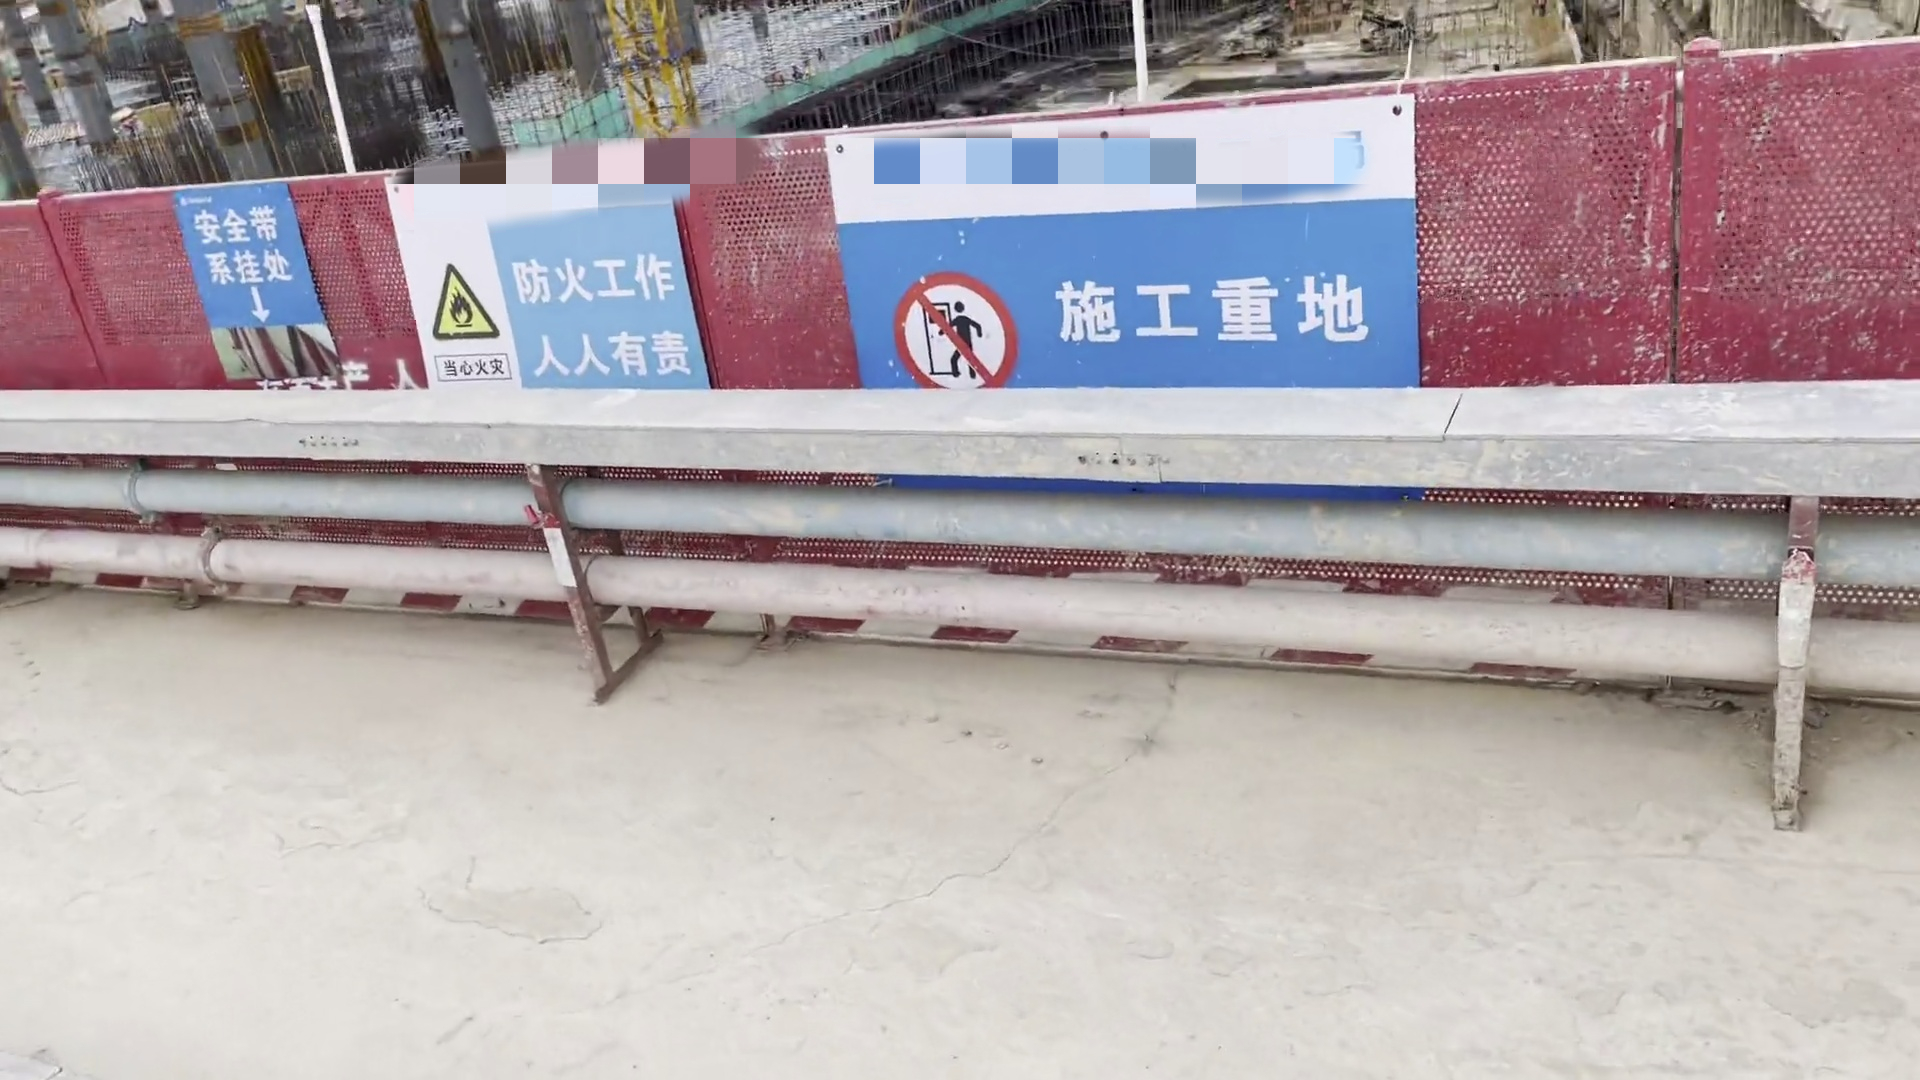fence: (818, 37, 1920, 415), (1, 107, 829, 401)
slogan: (795, 82, 1481, 553), (357, 167, 738, 431), (152, 167, 361, 431)
